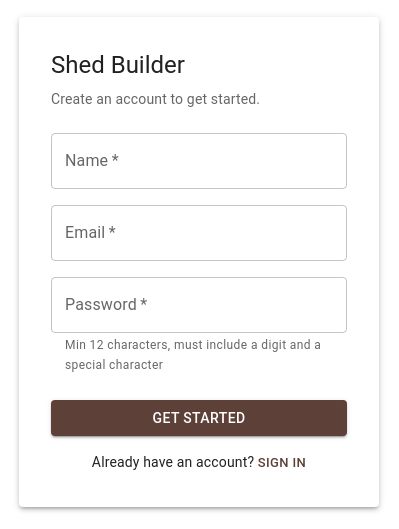
Scenario: App › toggles to login screen
Click the button "Sign in" at x=282, y=464, box [258,452,306,475]
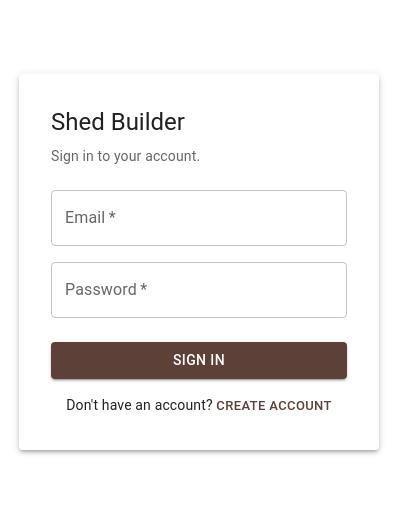
expect the text "Sign in to your account." is shown: met, box [51,148,200,164]
